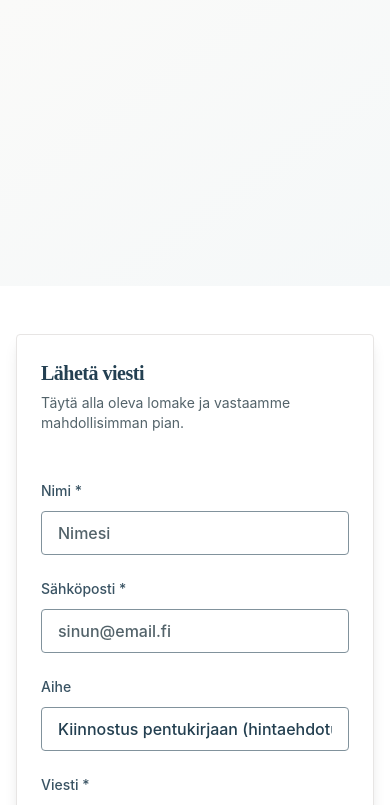
Test: memory-book interest via the existing contact form › does not report a message as sent when the timing guard blocks it, and allows retry
The width and height of the screenshot is (390, 805).
In the field labelled "Nimi *": [195, 533] box [41,511,349,555], type "Esimerkkikäyttäjä"
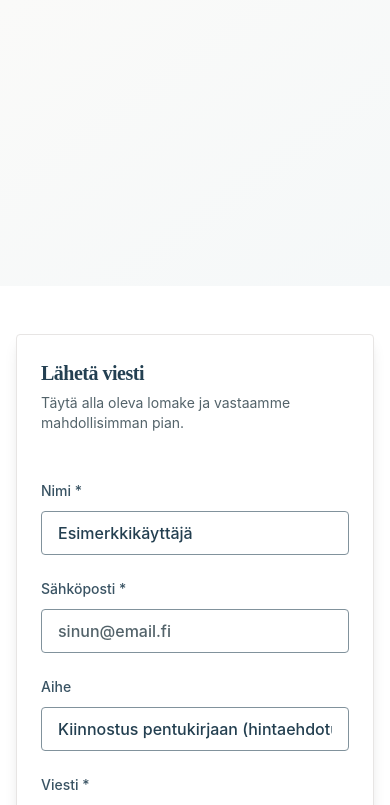
In the field labelled "Sähköposti *": [195, 631] box [41,609,349,653], type "example@example.invalid"
(page scrolled)
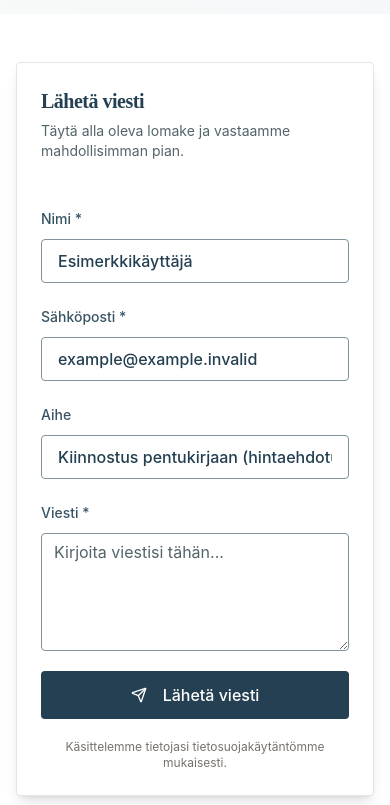
In the text box labelled "Viesti *": [195, 592] box [41,533,349,651], type "Haluaisin pentukirjaan oman kannen."
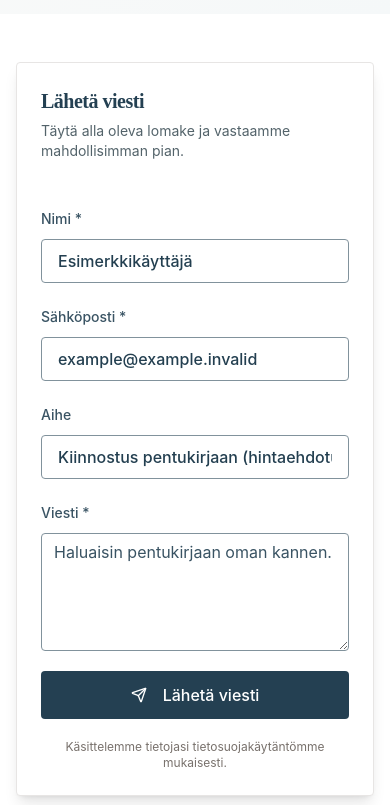
Submit the form "Lähetä viesti", box [41,205,349,771]
(page scrolled)
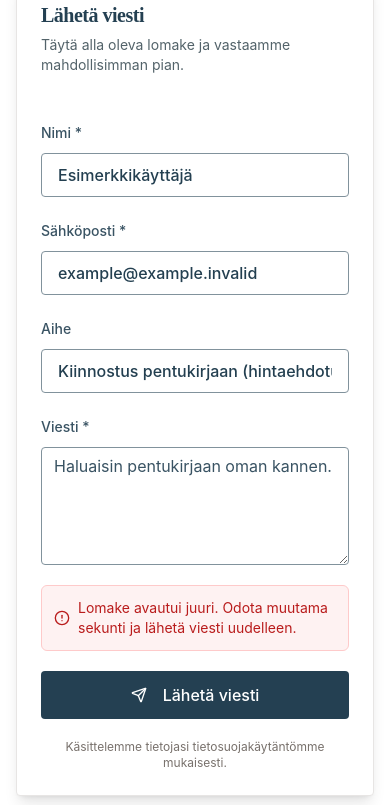
Expected: the text "Kiitos viestistäsi!" is not shown
Result: the message shows "Odota muutama sekunti" at [78,599,328,636]
Submit the form named "Lähetä viesti"
(page scrolled)
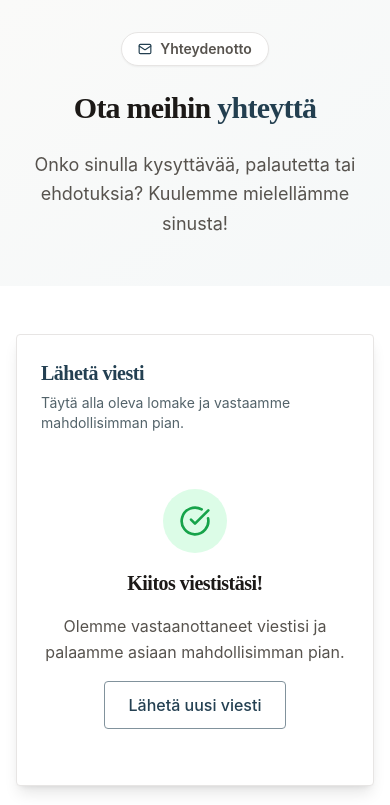
Result: the heading "Kiitos viestistäsi!" is shown at [127,572,263,594]
